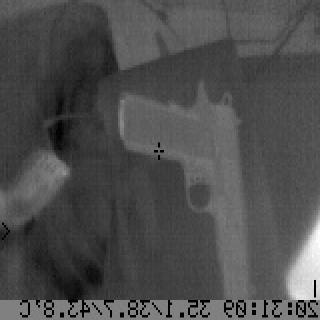Gun: (112, 78, 256, 298)
